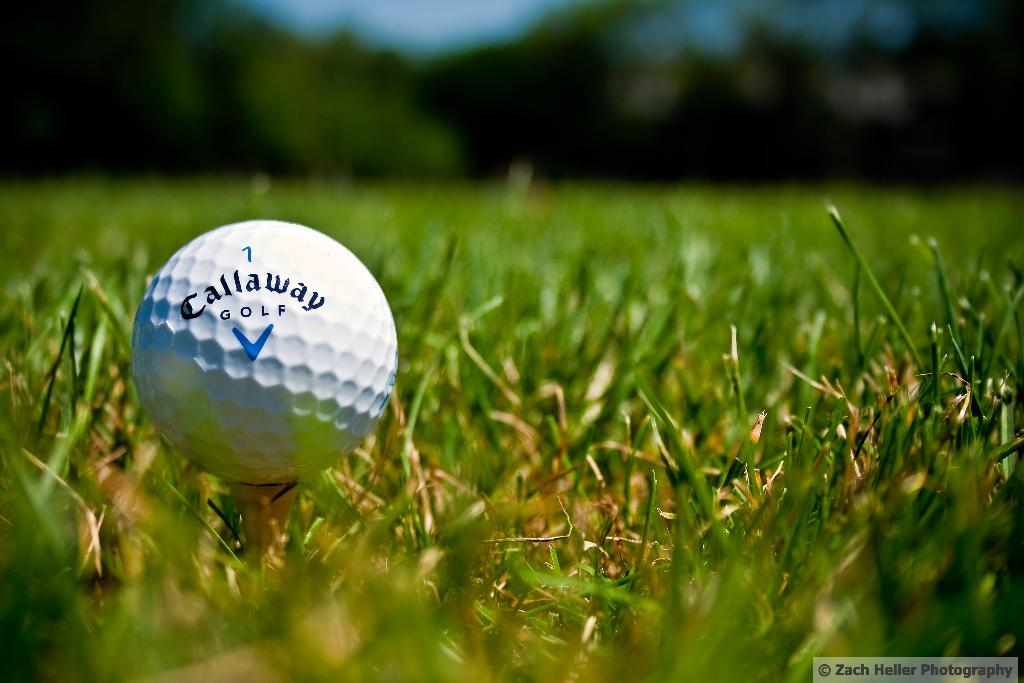Ball: (126, 217, 402, 488)
